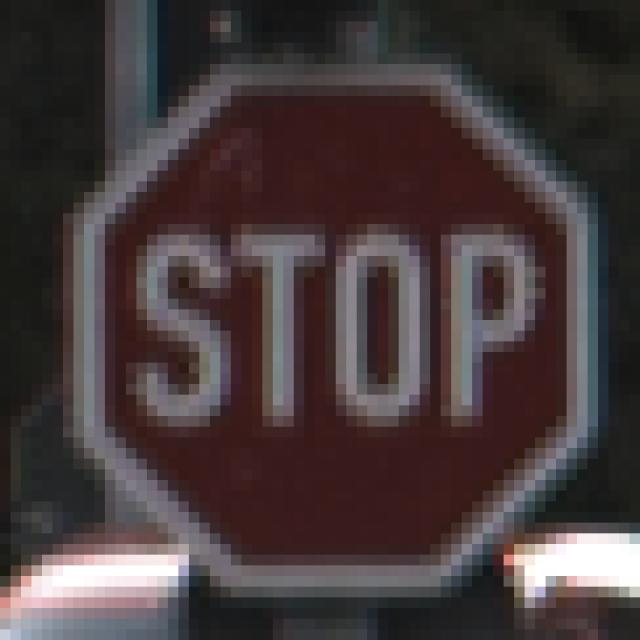STOP: (64, 54, 578, 577)
